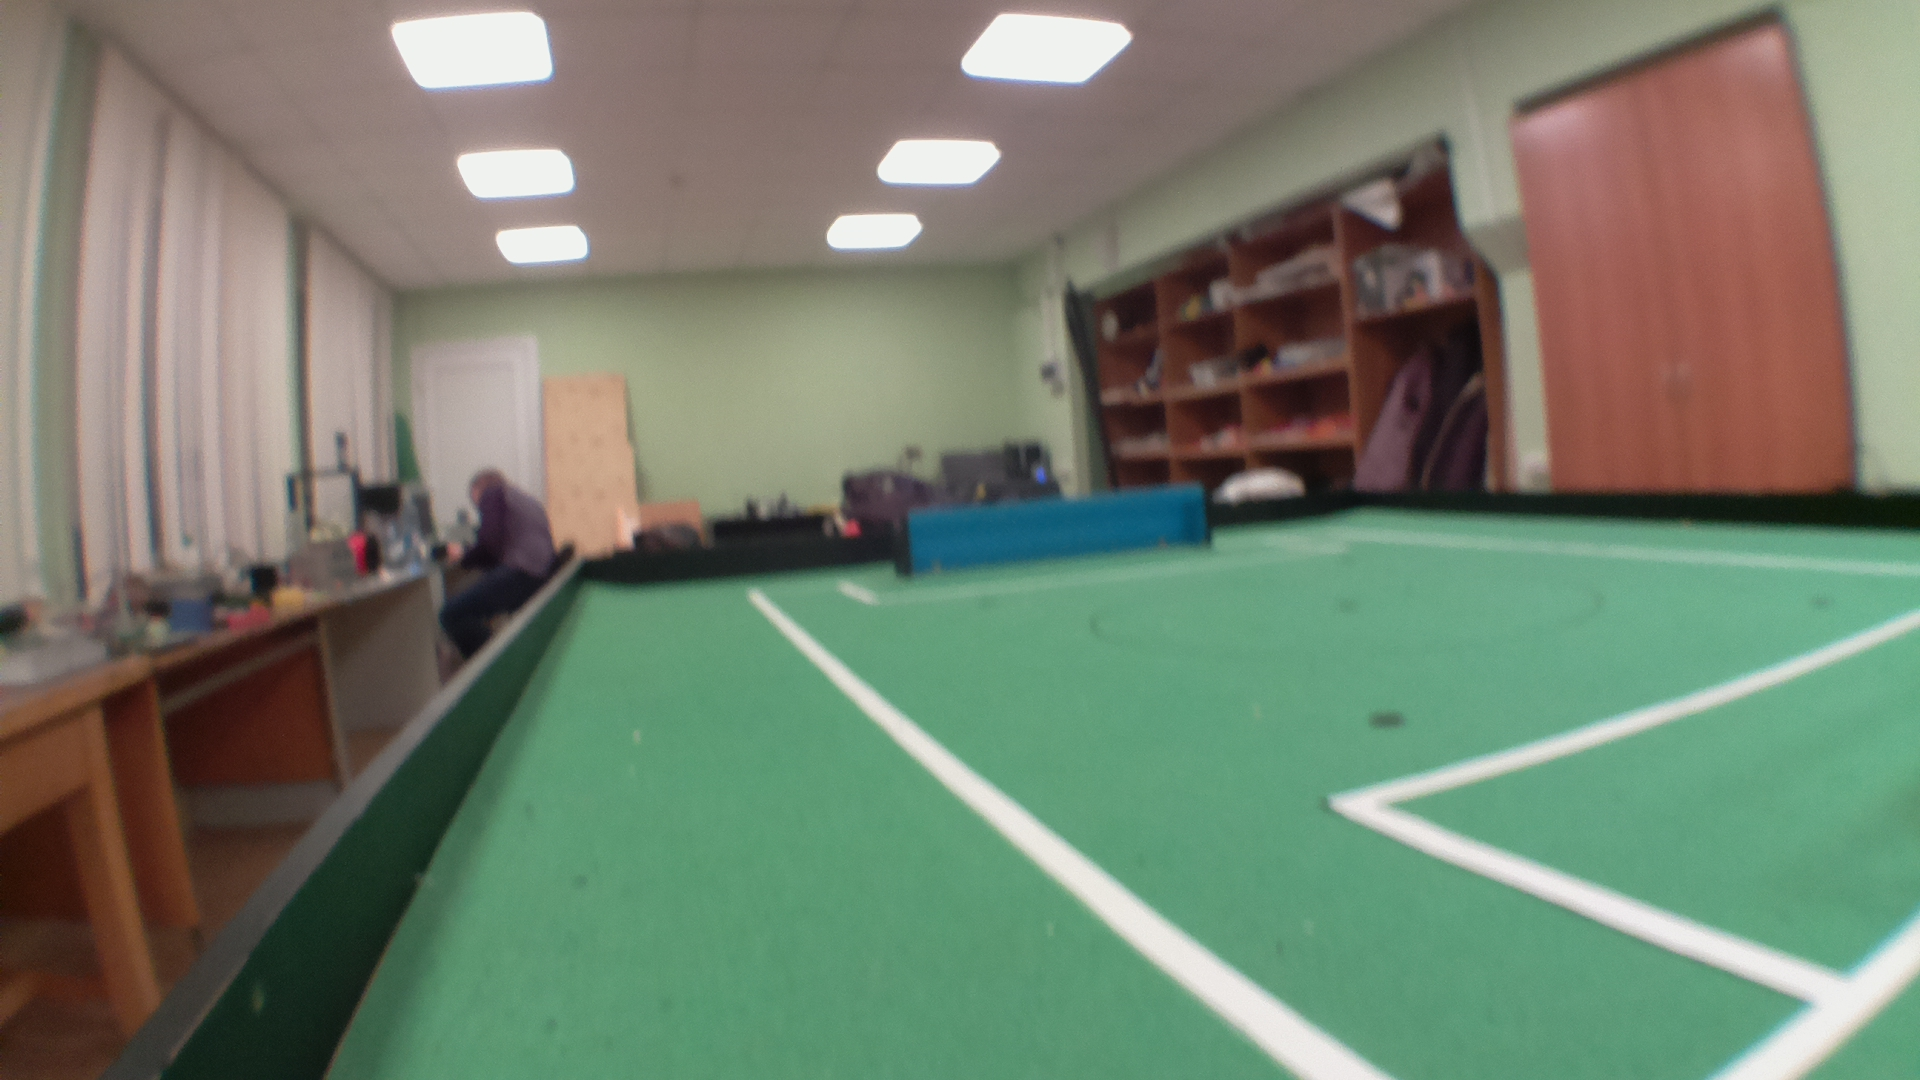BlueGoal: (909, 484, 1208, 582)
